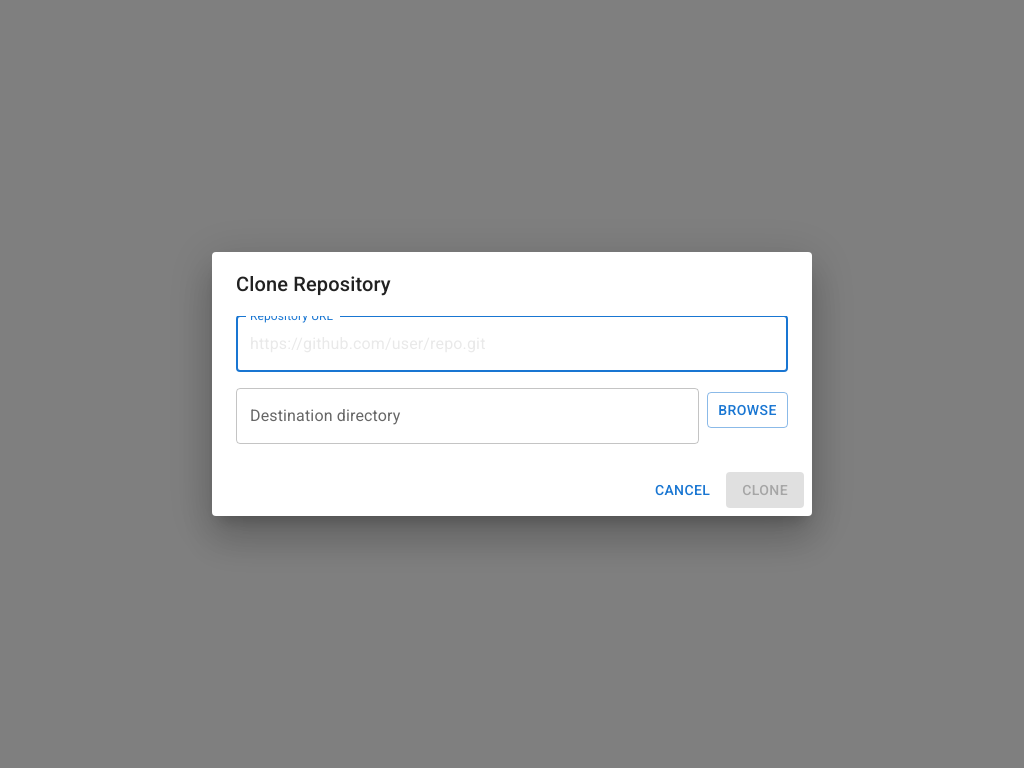
Test: fills destination after Browse
This screenshot has width=1024, height=768.
Click the button "Browse" at (748, 410), box [707,392,788,428]
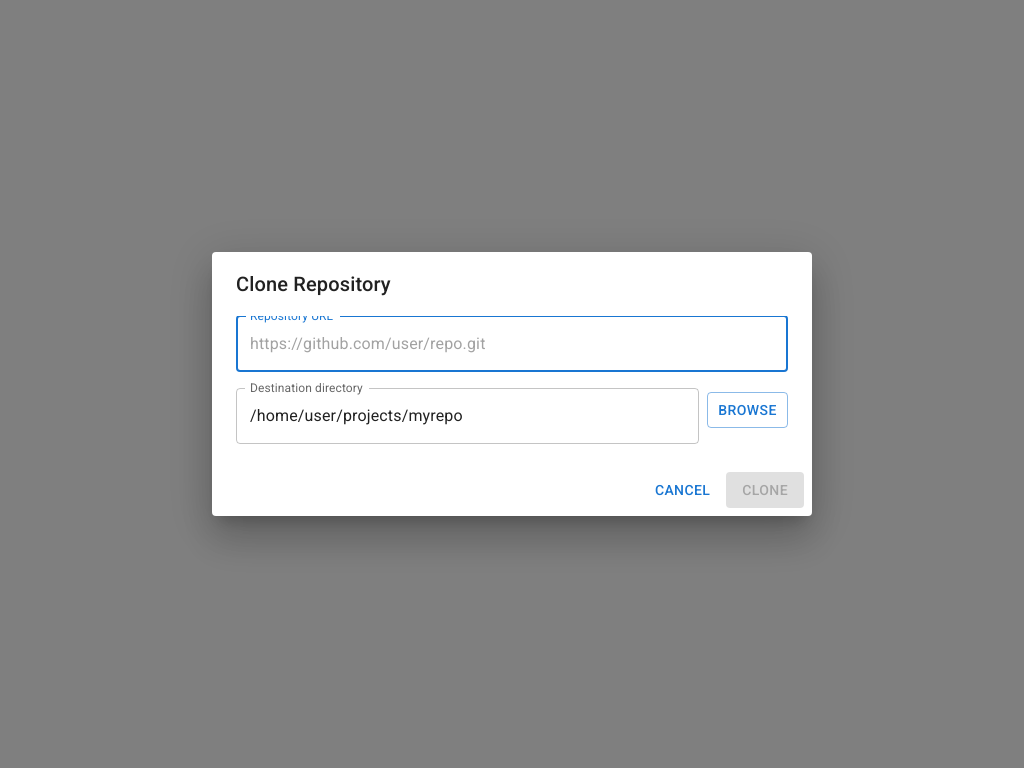
Check: the field with placeholder "/path/to/destination" holds "/home/user/projects/myrepo", box [236,388,699,444]
